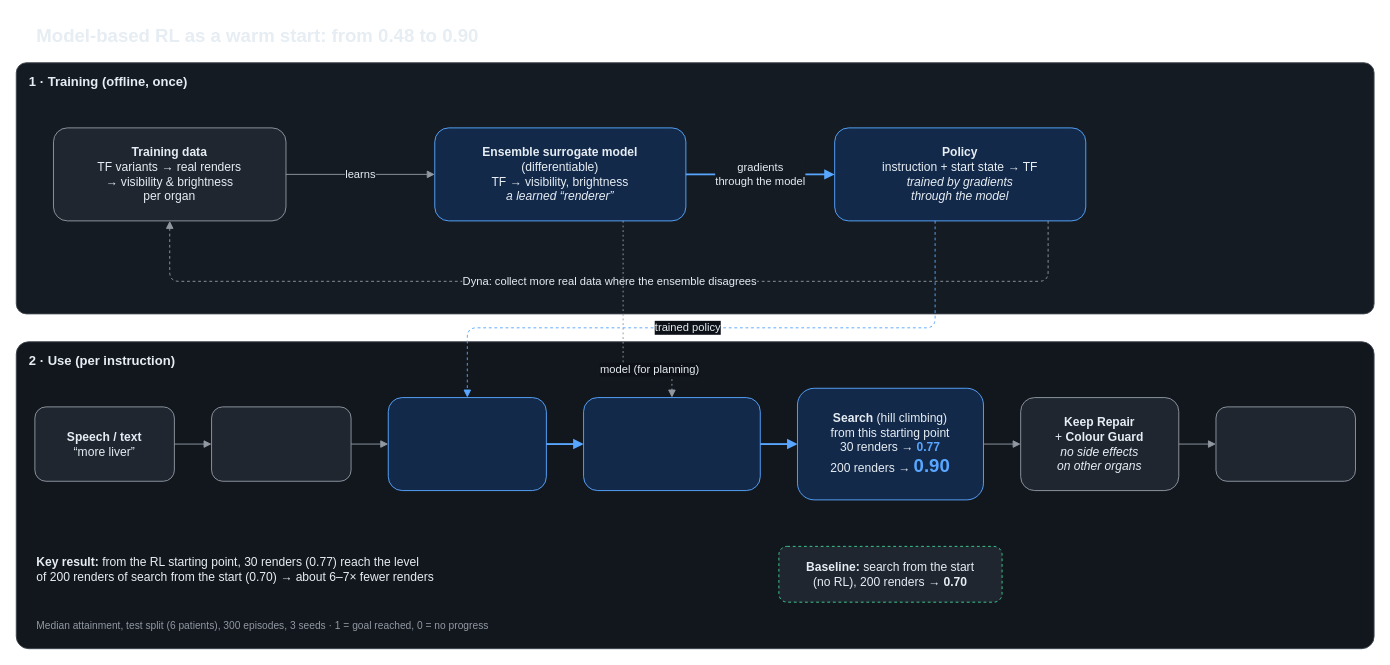
This 1390x665 diagram has some shape labels left out. Here are the shapes that lost their labels. From the top down, the centre of each, then its label:
(281,443): Parser → goal per organ
(466,444): Policy (one-shot) 0 renders 0.48
(671,444): Planning through the model 0 renders, ~0.2 s 0.64
(1285,443): Rendering Browser / VR
